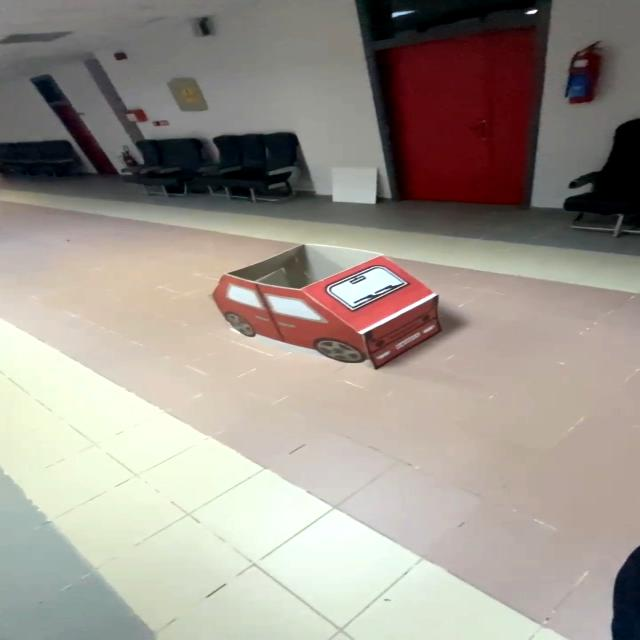red_car: (149, 236, 466, 395)
